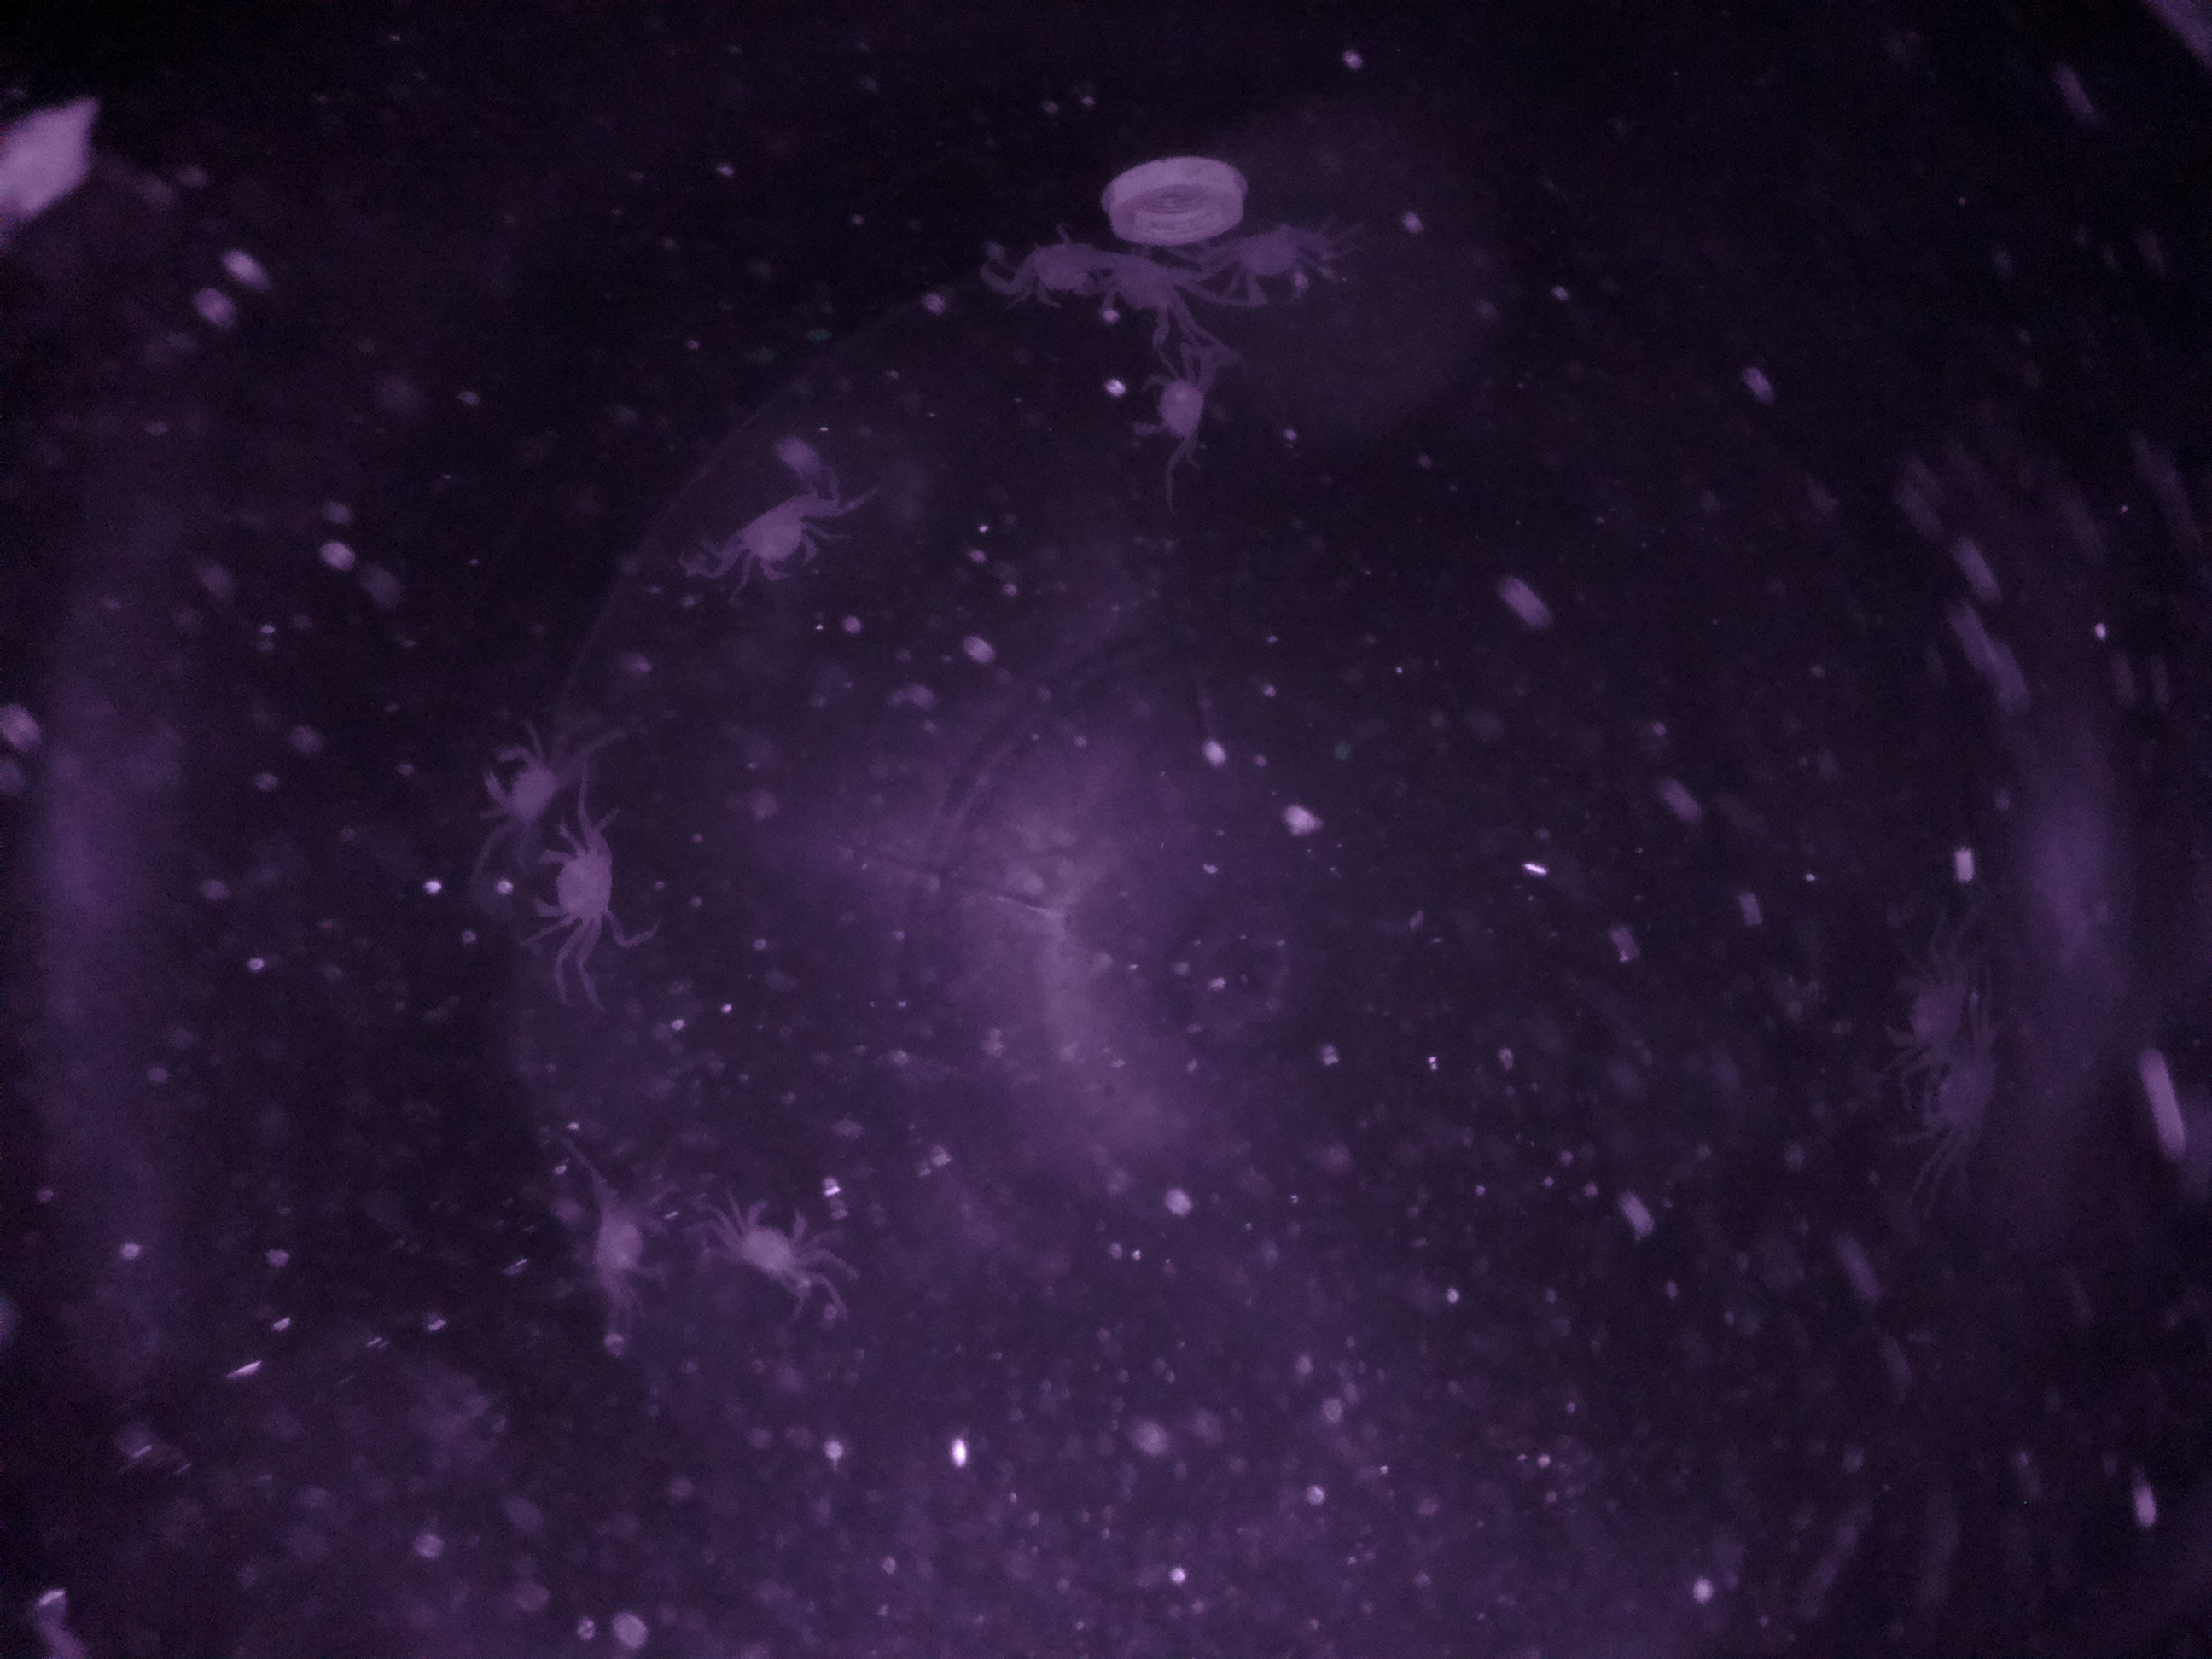Crab: (512, 826, 634, 951), (1223, 206, 1334, 324), (725, 481, 836, 594), (1113, 342, 1230, 450), (716, 1175, 822, 1291), (467, 725, 578, 829)
